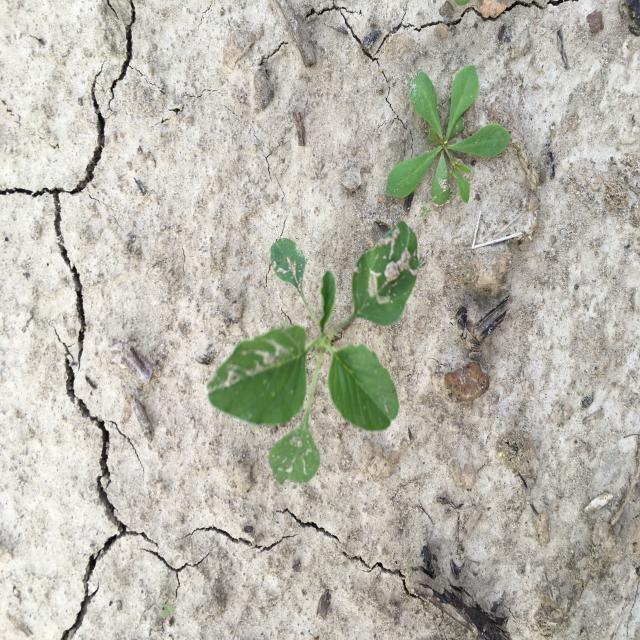Carpetweed: (385, 63, 512, 207)
PalmerAmaranth: (204, 218, 420, 488)
